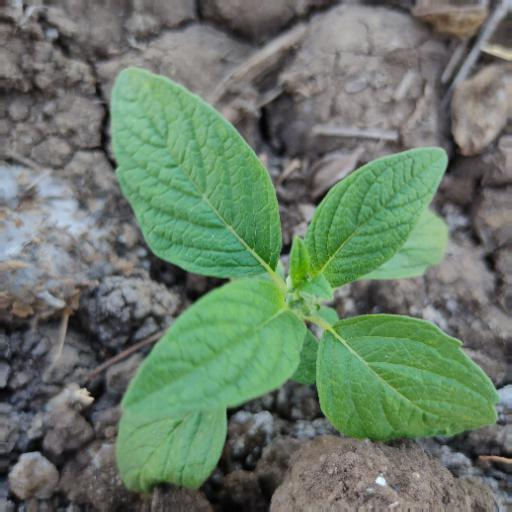crop: (102, 71, 505, 488)
